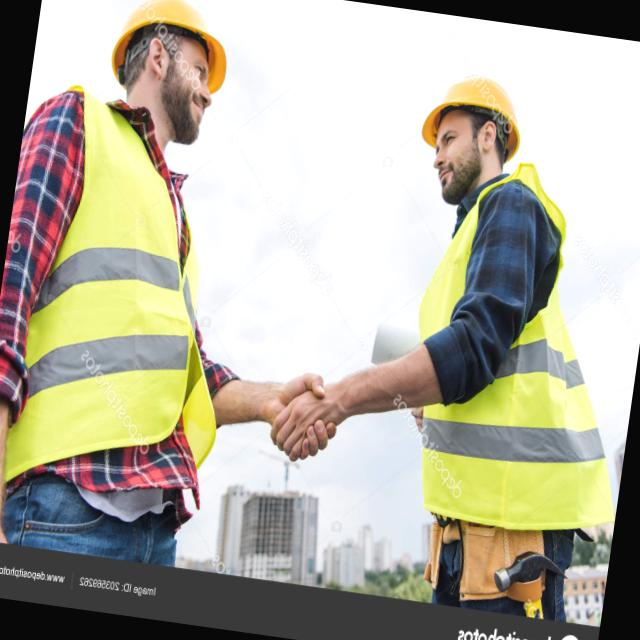helmet: (90, 0, 248, 94), (412, 59, 534, 160)
no-goggles: (432, 113, 484, 169), (178, 59, 230, 89)
vest: (0, 77, 268, 512), (383, 157, 631, 568)
